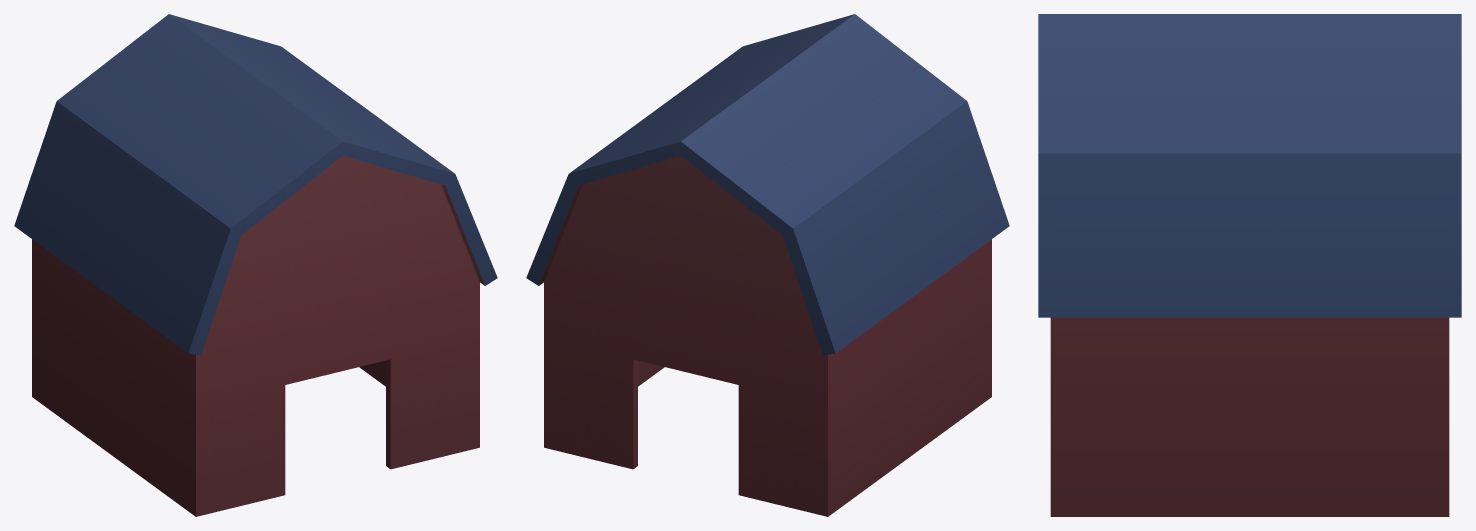
The model's file is barn0.glb.
3 views of the same model, side by side, from view 1: azimuth 30°, elevation 25°; view 2: azimuth 150°, elevation 25°; view 3: azimuth 270°, elevation 25° (orthographic). The views are drawn at different scales.
Visible parts, largest first — view 1: Barn; view 2: Barn; view 3: Barn.
Part boxes in pixels (bbox=[...]): Barn: bbox=[14, 14, 497, 516]; Barn: bbox=[526, 14, 1009, 516]; Barn: bbox=[1038, 14, 1461, 516].
Size of the model in its own units: 5.88 by 6.26 by 5.73.
Materials: 1 (1 with a texture image).
